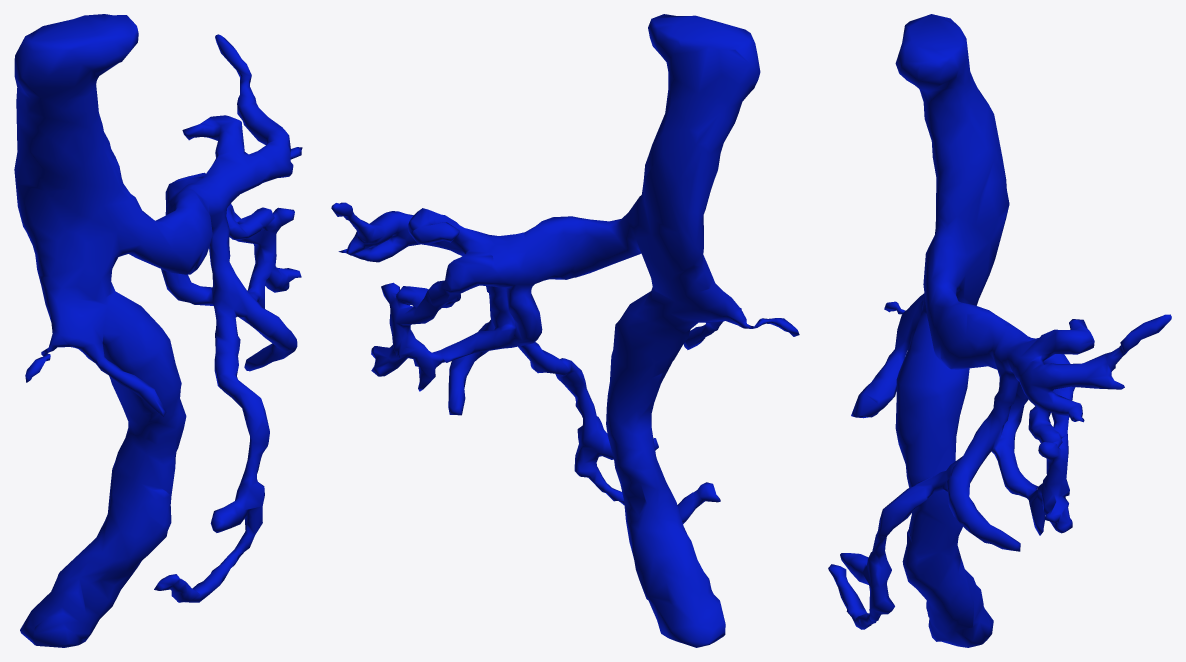
3 views of the same model, side by side, from view 1: azimuth 30°, elevation 25°; view 2: azimuth 150°, elevation 25°; view 3: azimuth 270°, elevation 25° (orthographic). The views are drawn at different scales.
Visible parts, largest first — view 1: Polygonal_Model_6_Triangles_0; view 2: Polygonal_Model_6_Triangles_0; view 3: Polygonal_Model_6_Triangles_0.
Part boxes in pixels (x1,y1,x2,y2): Polygonal_Model_6_Triangles_0: (14, 14, 302, 647); Polygonal_Model_6_Triangles_0: (331, 14, 799, 647); Polygonal_Model_6_Triangles_0: (828, 14, 1171, 647).
Size of the model in its own units: 5.1 by 7.98 by 4.11.
